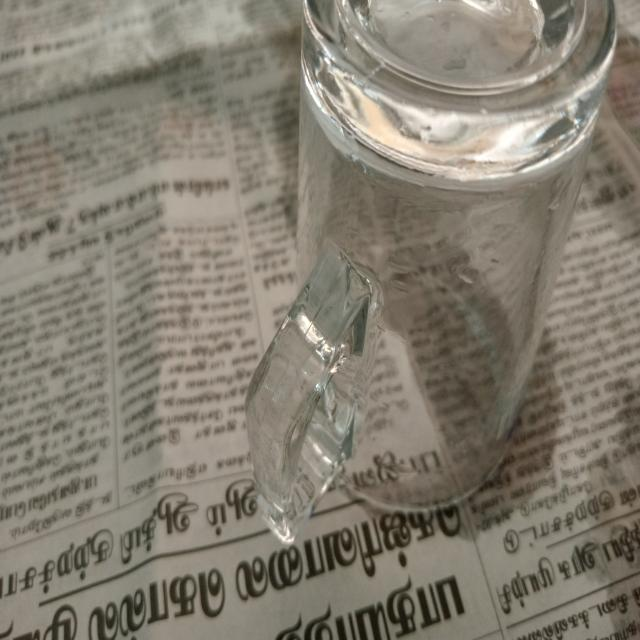glass-VX4N: (240, 0, 620, 547)
